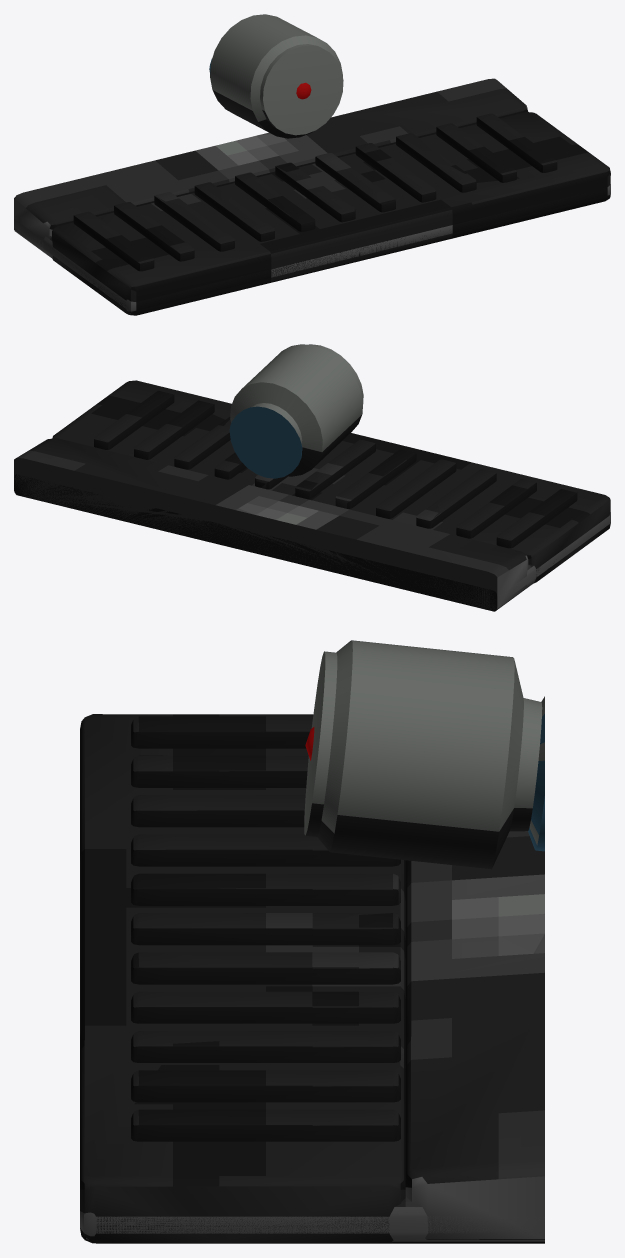
File: gun_silo_119.glb
3 renders of one model, top to bottom at view 1: azimuth 30°, elevation 25°; view 2: azimuth 150°, elevation 25°; view 3: azimuth 270°, elevation 25°, orthographic. The views are drawn at different scales.
Visible parts, largest first — view 1: gun_silo_119_plate; view 2: gun_silo_119_plate; view 3: gun_silo_119_plate.
Boxes of the visible parts, <box> form: gun_silo_119_plate: <box>14,14,610,315</box>; gun_silo_119_plate: <box>14,344,610,611</box>; gun_silo_119_plate: <box>80,640,544,1243</box>.
Size of the model in its own units: 24 by 8.32 by 10.
